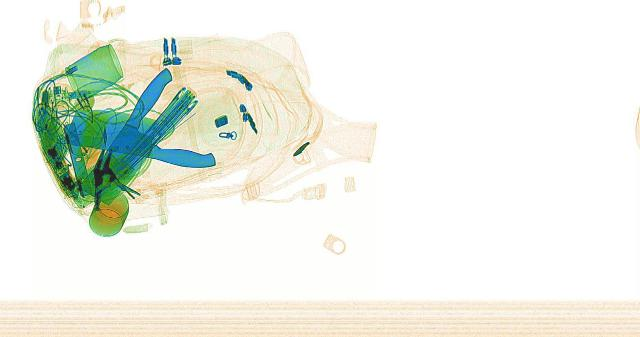Knife: (62, 66, 218, 199), (52, 106, 236, 169)
